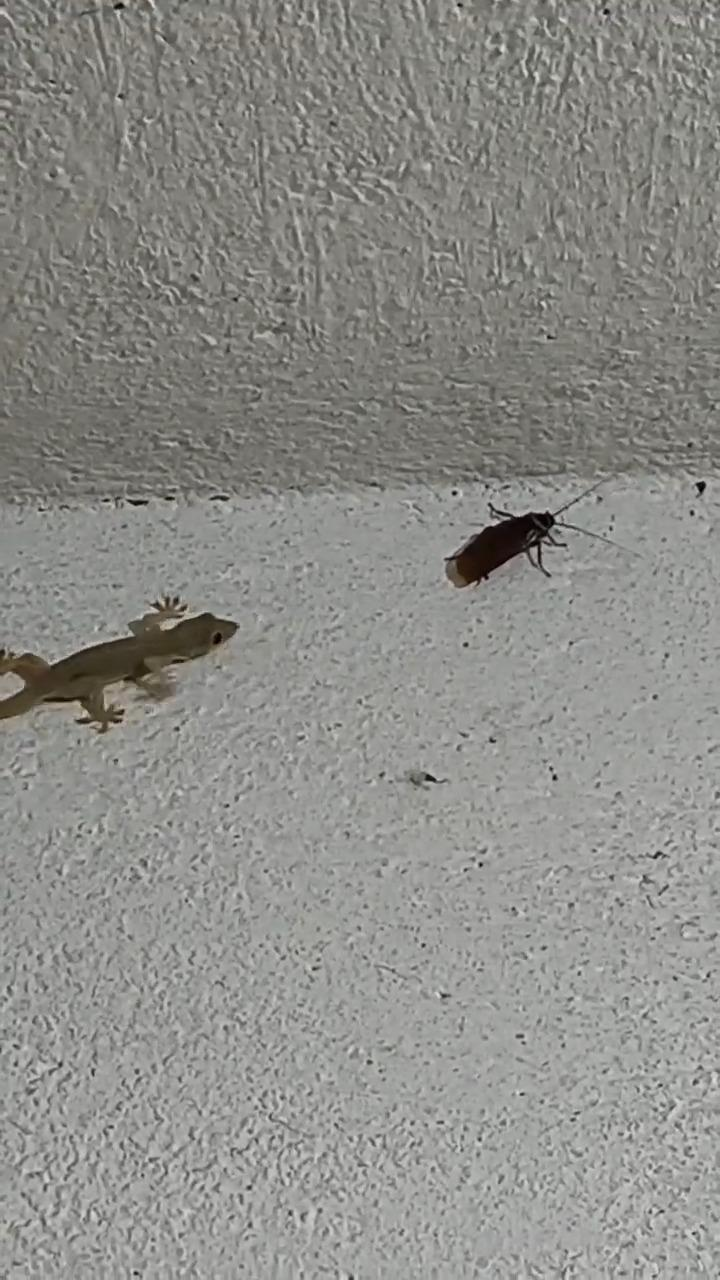cockroach: (426, 486, 637, 596)
lizard: (0, 568, 249, 730)
